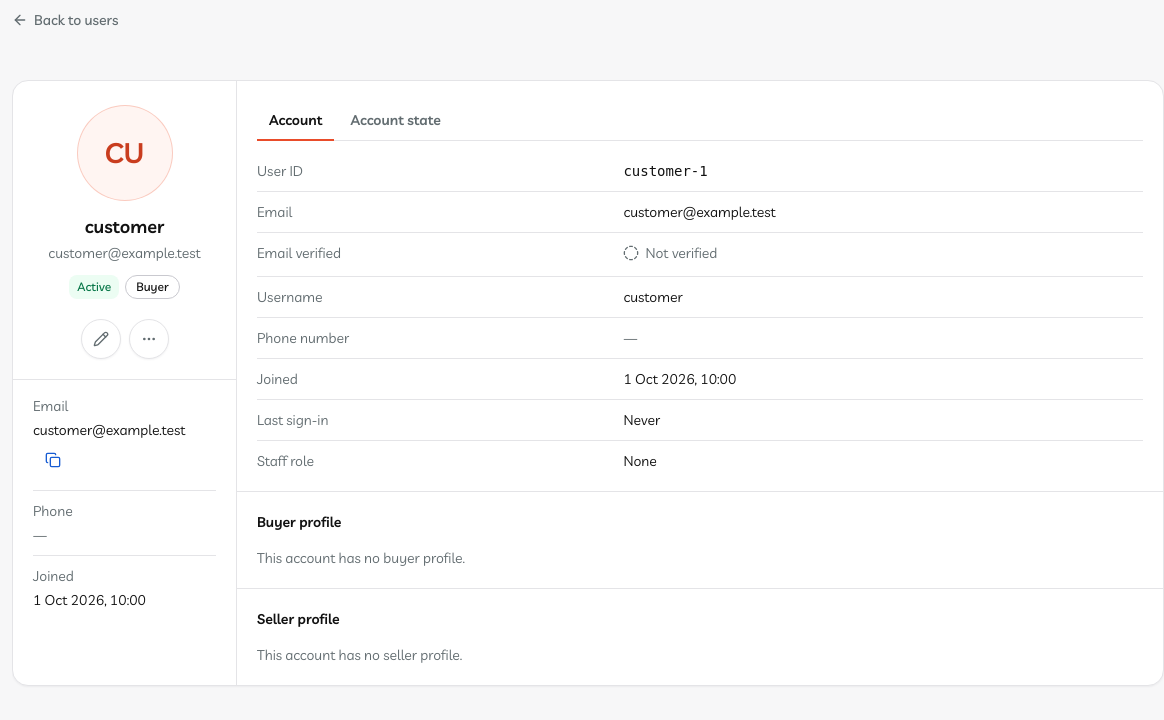
Test: detail permissions › shows exactly the user actions granted to support
The width and height of the screenshot is (1164, 720).
Click the button named "More user actions": [148, 339] box [128,319,168,359]
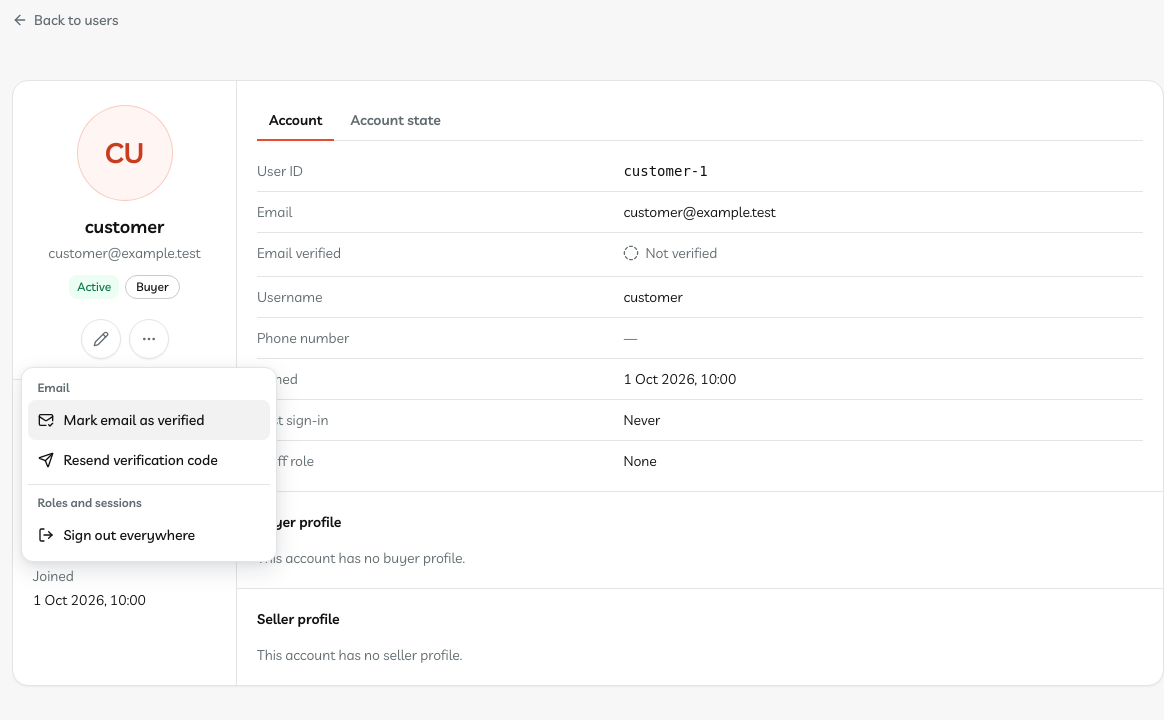
Expected: the menu items read "Mark email as verified", "Resend verification code", "Sign out everywhere", in this order, [28,400,270,440]; [28,440,270,480]; [28,515,270,555]
